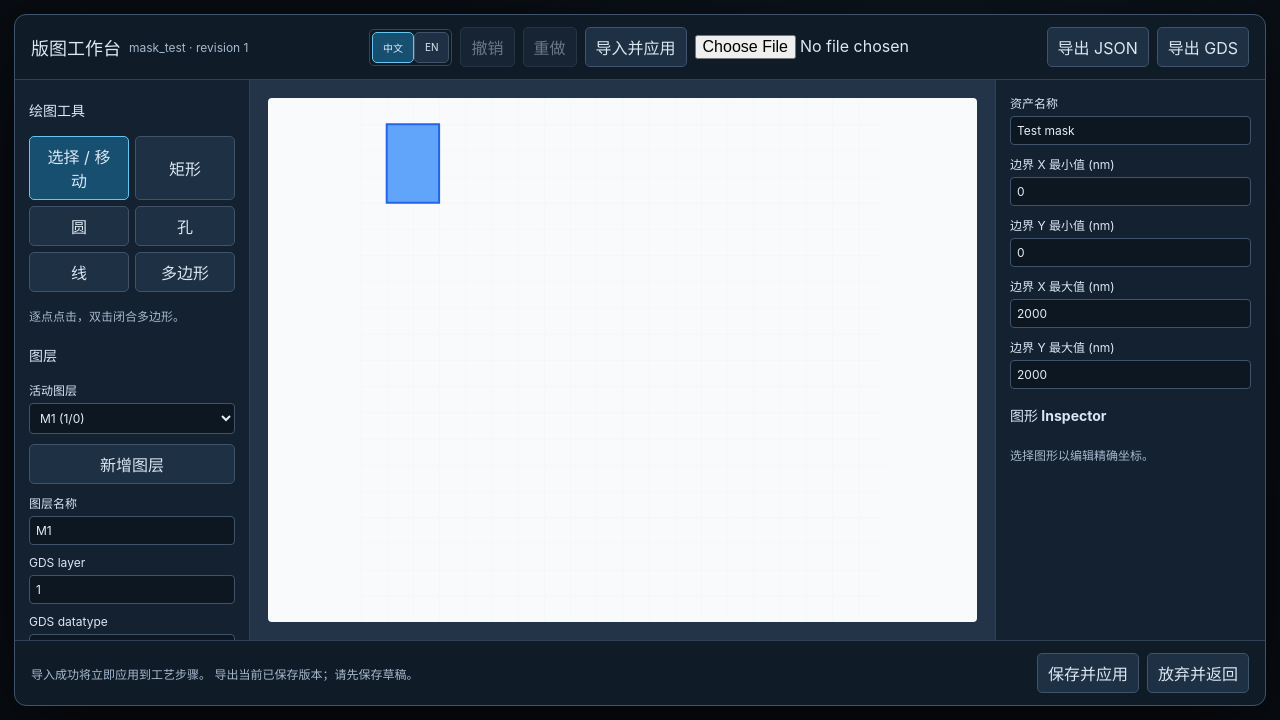
Test: Mask Workbench session › an unfinished polygon disables save, asks before abandonment and clears when changing tools
Click the button "多边形".
click(185, 272)  # box [135,252,235,292]
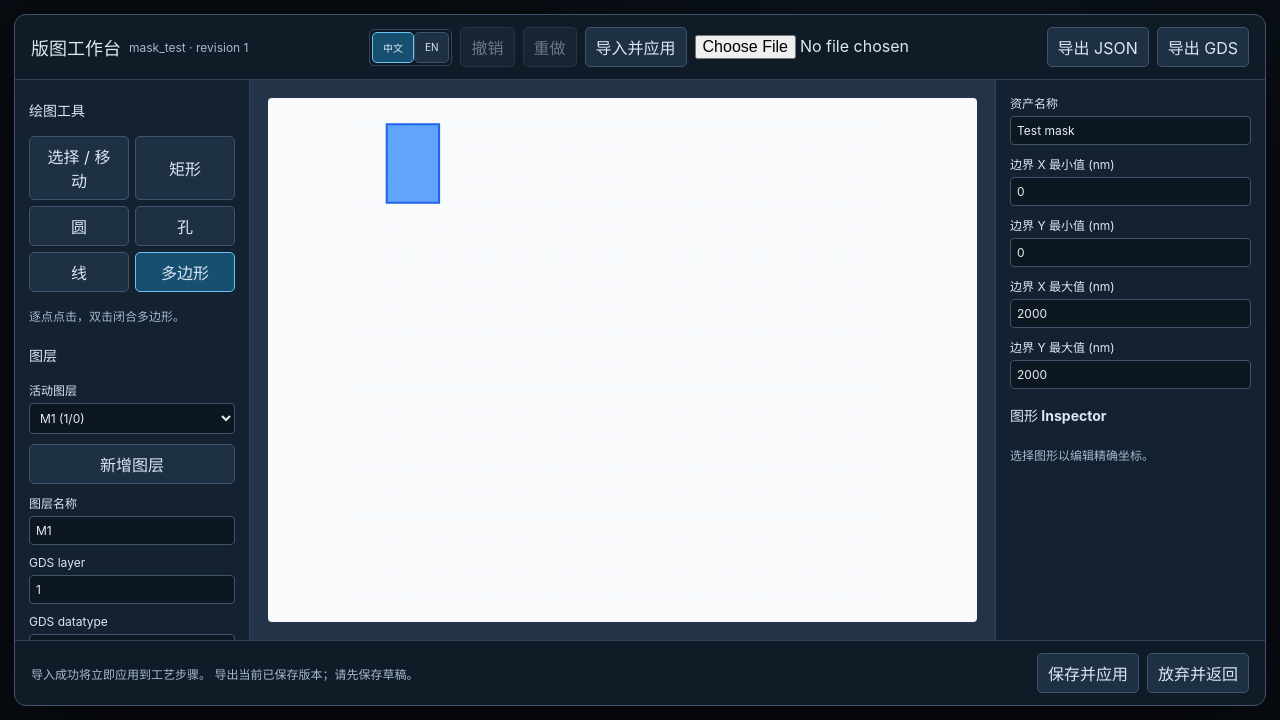
Press the mouse on the icon with test id "mask-canvas" at (622, 360), box [268,98,977,622]
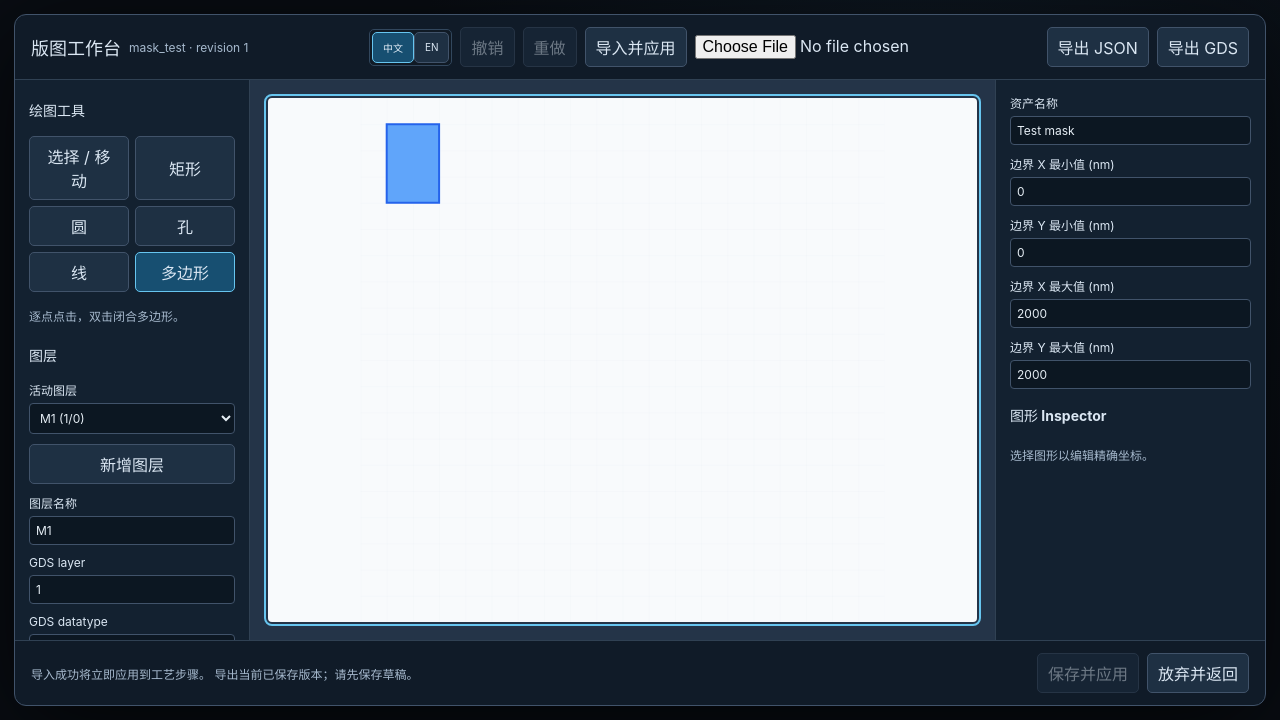
Press the mouse on the icon with test id "mask-canvas" at (622, 360), box [268,98,977,622]
Check: the button "保存并应用" is disabled, box [1037,653,1139,693]
Click the button "放弃并返回".
click(1198, 673)  # box [1147,653,1249,693]
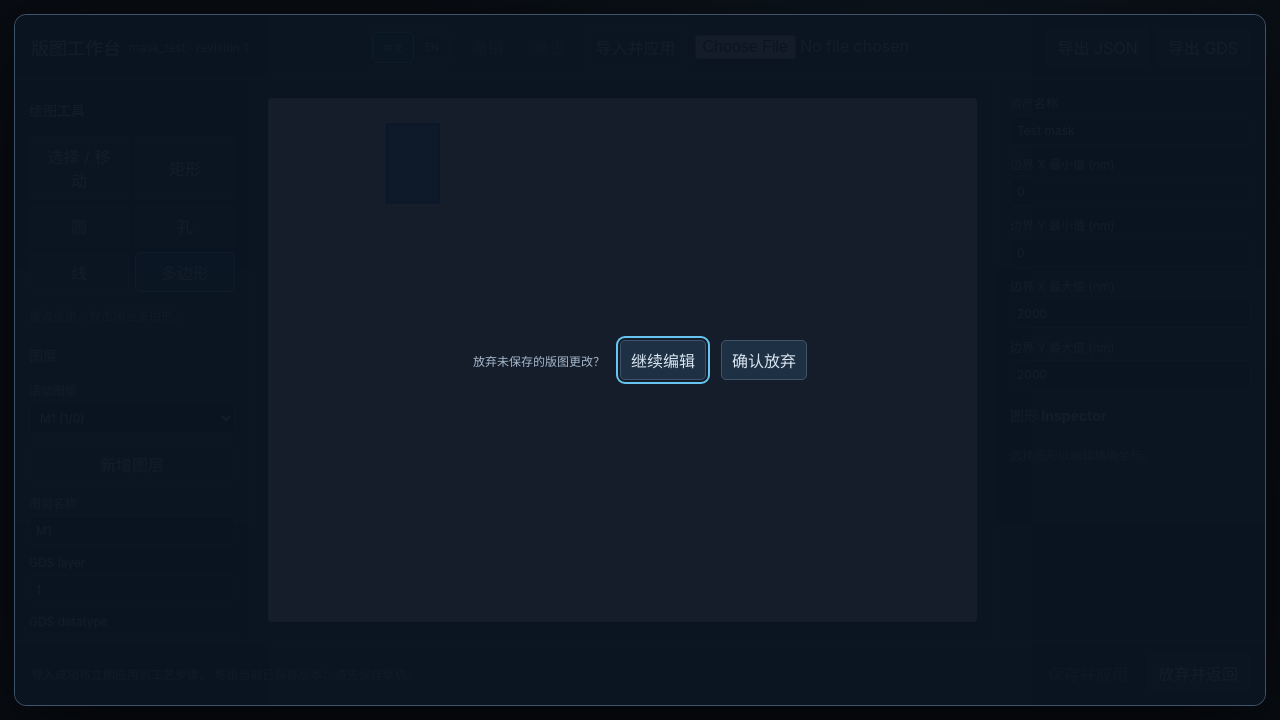
Check: the dialog is shown
Click the button "继续编辑".
click(663, 360)  # box [620,340,706,380]
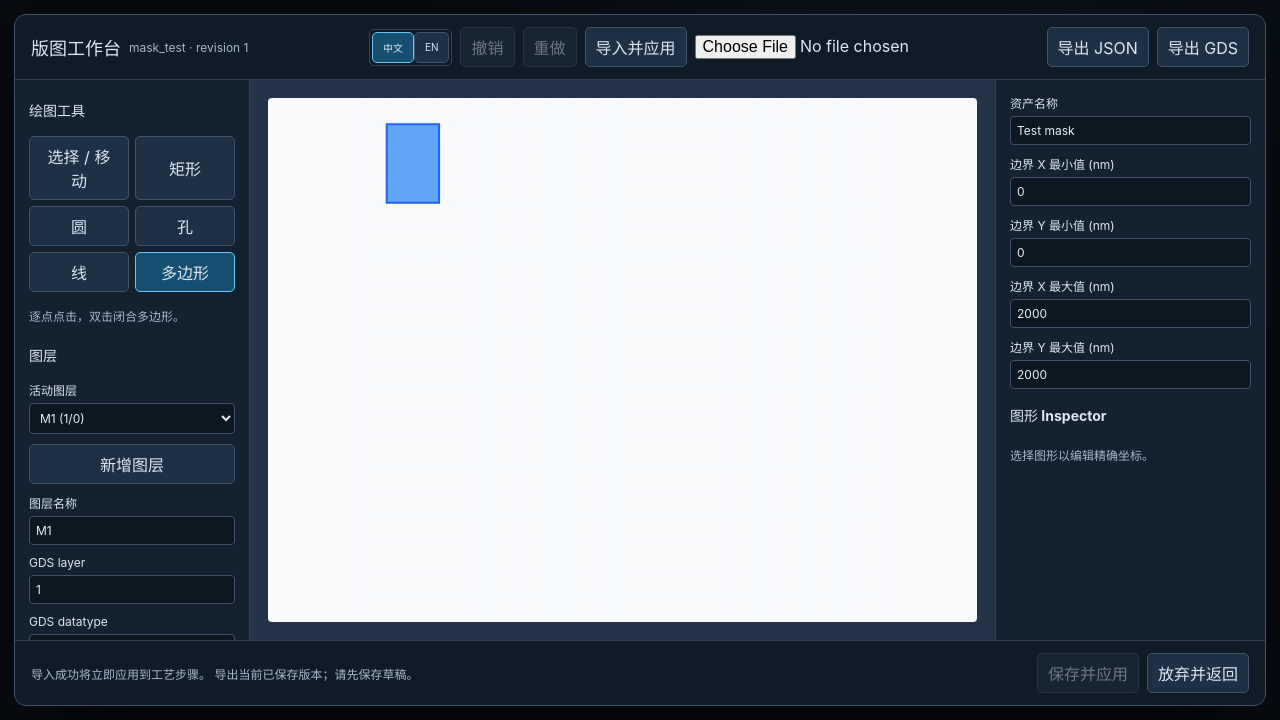
Click the button "矩形".
click(185, 168)  # box [135,136,235,200]
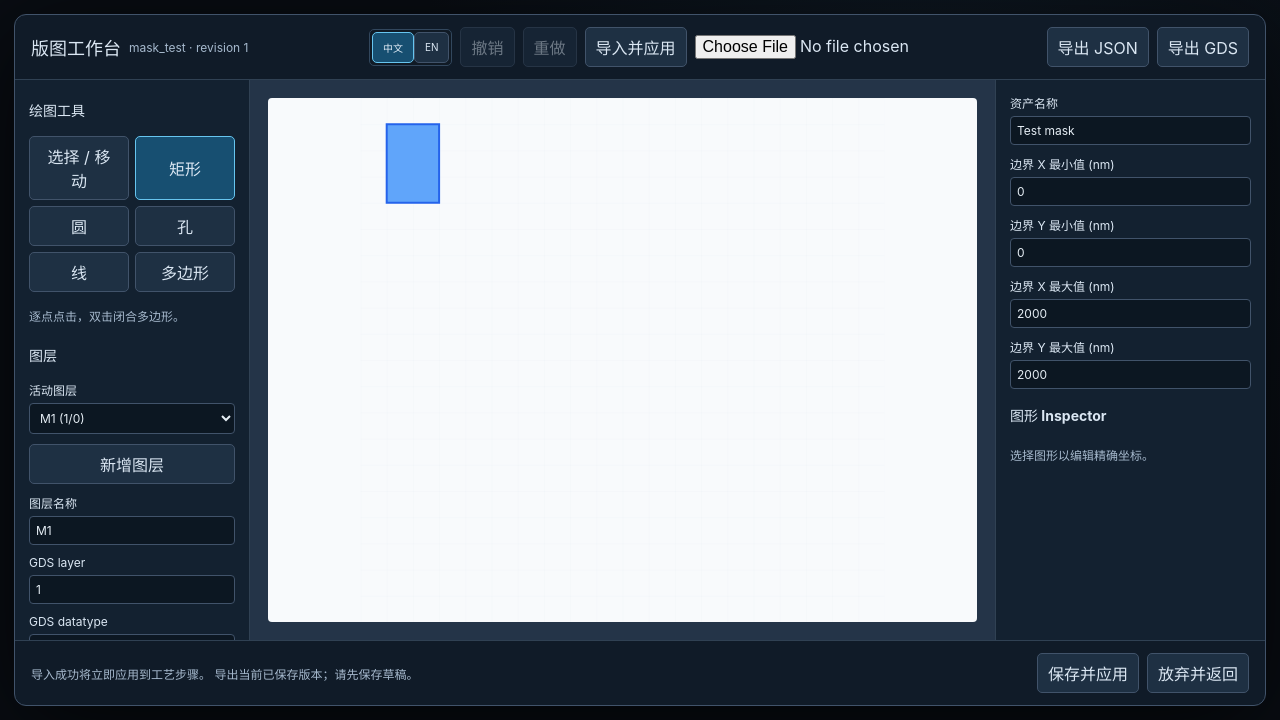
Check: the button "保存并应用" is enabled, box [1037,653,1139,693]
